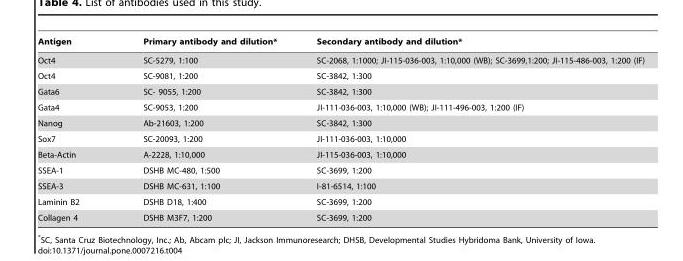table: (37, 36, 644, 221)
table column: (296, 36, 644, 221), (110, 36, 296, 221), (37, 36, 110, 221)
table column header: (37, 36, 644, 50)
table row: (37, 50, 644, 67), (37, 67, 644, 83), (37, 83, 644, 99), (37, 99, 644, 115), (37, 130, 644, 146), (37, 146, 644, 162), (37, 162, 644, 178), (37, 193, 644, 209), (37, 115, 644, 130), (37, 178, 644, 193), (37, 36, 644, 50), (37, 209, 644, 221)
